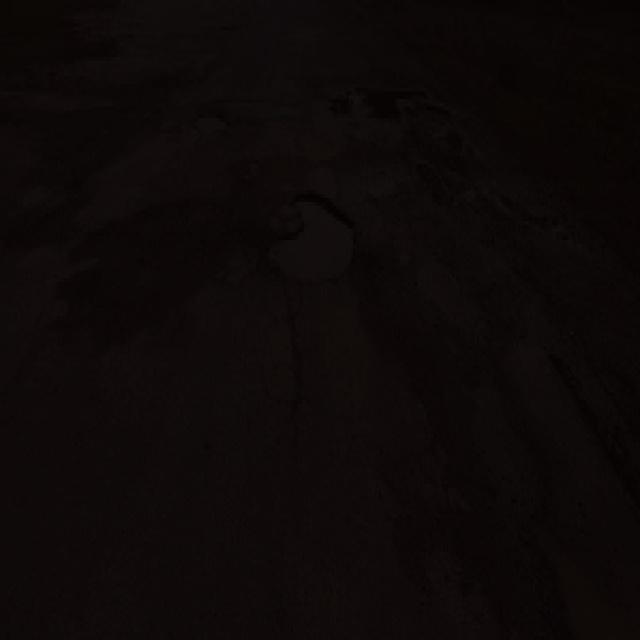Pothole: (524, 497, 640, 640), (260, 182, 367, 298), (353, 79, 468, 149), (198, 109, 237, 145)
